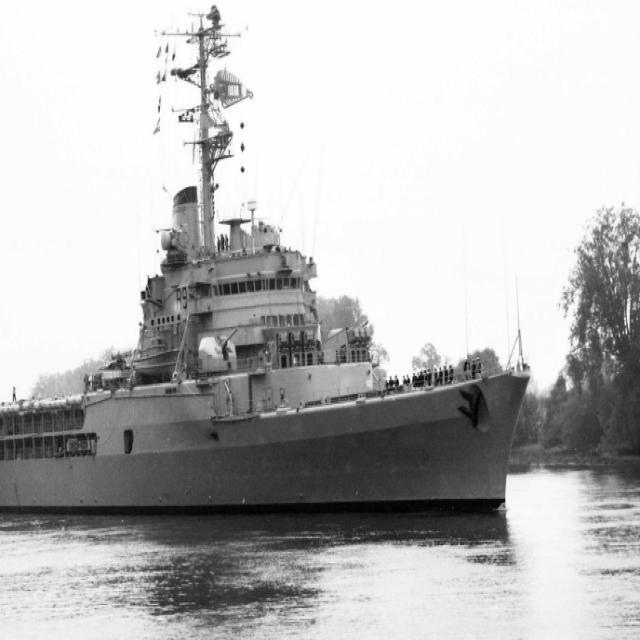Portanaves: (1, 1, 536, 526)
